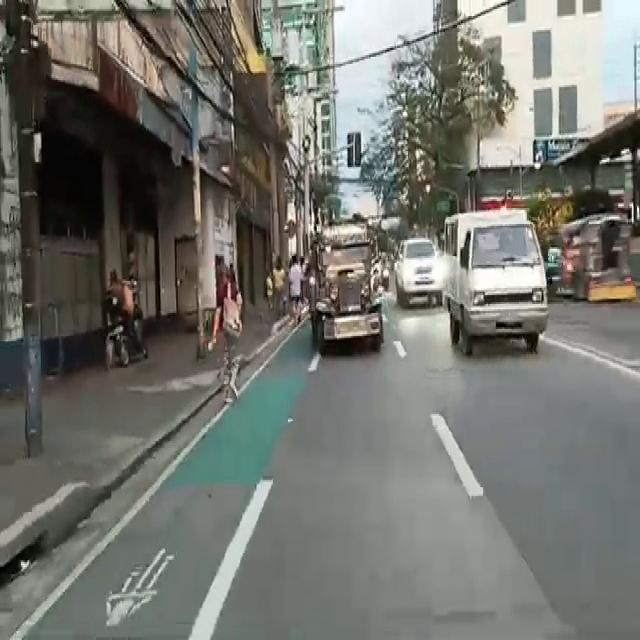car: (443, 216, 553, 359), (386, 245, 445, 306)
jeepney: (298, 221, 388, 351), (556, 213, 636, 304)
